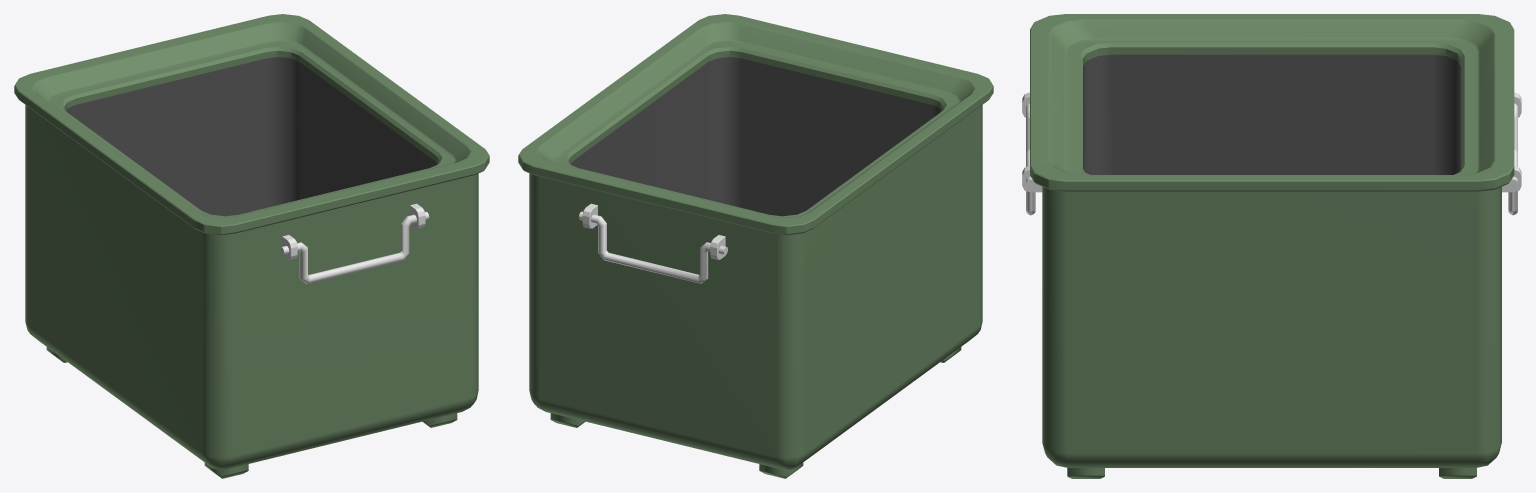
Rendered from Gun_Case1.fbx.
3 renders of one model, left to right at view 1: azimuth 30°, elevation 25°; view 2: azimuth 150°, elevation 25°; view 3: azimuth 270°, elevation 25°, orthographic. The views are drawn at different scales.
Parts seen in each view (by area): view 1: Gun_Case; view 2: Gun_Case; view 3: Gun_Case.
Boxes of the visible parts, bbox=[...] form: Gun_Case: bbox=[14, 14, 489, 478]; Gun_Case: bbox=[518, 14, 993, 478]; Gun_Case: bbox=[1022, 14, 1521, 478].
Size of the model in its own units: 4.87 by 4.3 by 6.15.
